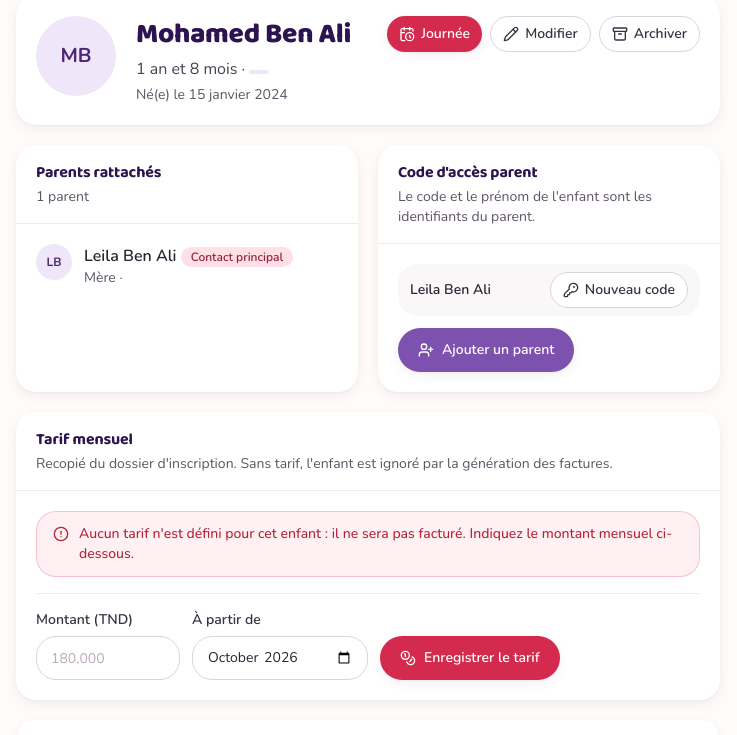
Test: reissuing an access code › says so when the reissue fails, rather than looking like a dead button
The width and height of the screenshot is (737, 735).
Click the button "Nouveau code": [619, 290] box [550, 272, 688, 308]
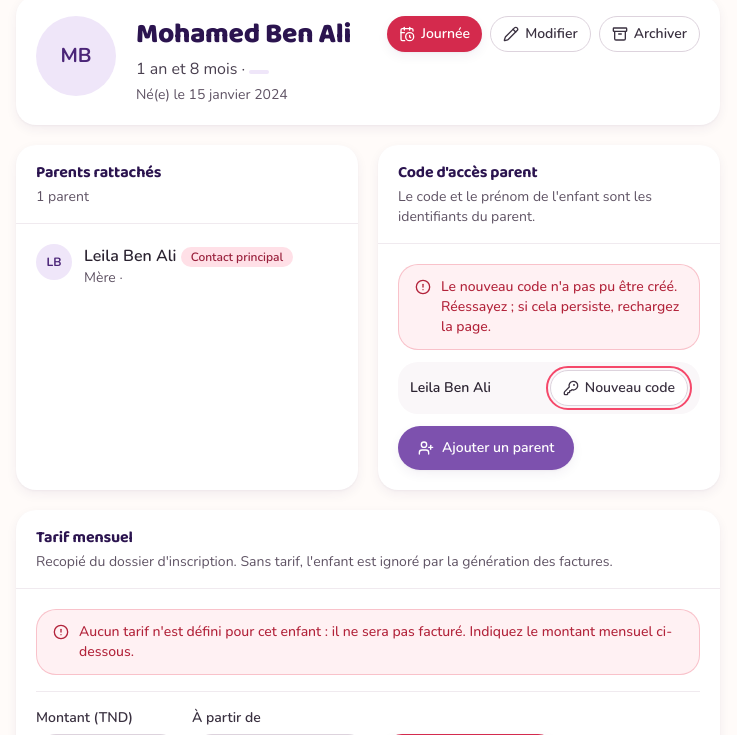
Expected: the text "nouveau code n'a pas pu être créé" is shown, [441, 277, 679, 336]
